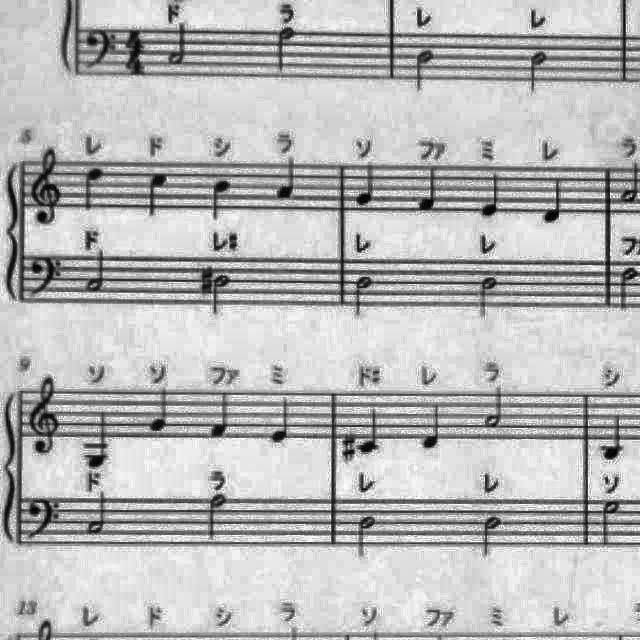Bass-clef: (20, 490, 61, 546), (23, 251, 63, 305), (78, 21, 118, 74)
Diez: (340, 430, 358, 466), (198, 263, 216, 297)
Half-note: (596, 496, 624, 552), (86, 486, 114, 538), (203, 492, 230, 544), (352, 511, 380, 561), (168, 20, 196, 70), (410, 46, 438, 96), (350, 271, 378, 321), (80, 247, 108, 297), (274, 24, 300, 76), (616, 262, 640, 318), (525, 48, 551, 98), (479, 512, 505, 560), (477, 272, 503, 320), (482, 382, 506, 432), (210, 270, 233, 320), (618, 156, 640, 206)
Quarter-note: (82, 409, 118, 475), (271, 152, 303, 204), (142, 169, 172, 223), (599, 411, 629, 465), (80, 162, 110, 214), (350, 158, 380, 210), (356, 403, 384, 457), (418, 398, 446, 452), (206, 389, 234, 443), (538, 174, 566, 228), (146, 384, 174, 436), (414, 162, 442, 214), (207, 176, 236, 224), (269, 394, 295, 446), (479, 168, 505, 220)
Treble-clef: (24, 370, 64, 458), (28, 143, 68, 231)
